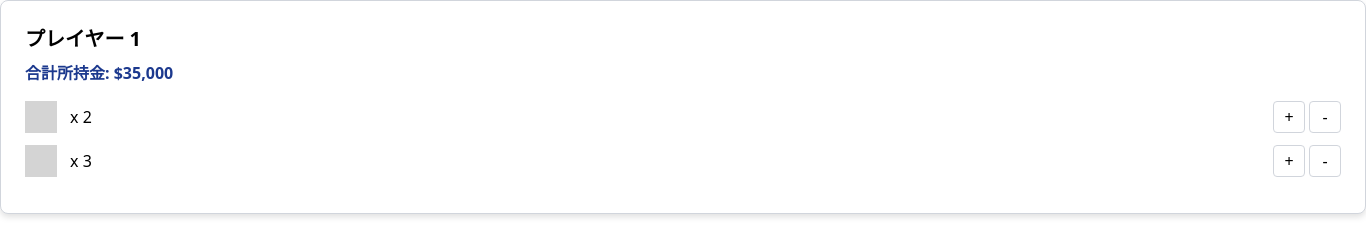
PlayerBoard › プレイヤー名をクリックすると全文が選択され、最初の入力で置き換わる
The width and height of the screenshot is (1366, 245).
Click the text "プレイヤー 1": (83, 38) [25,25,141,52]
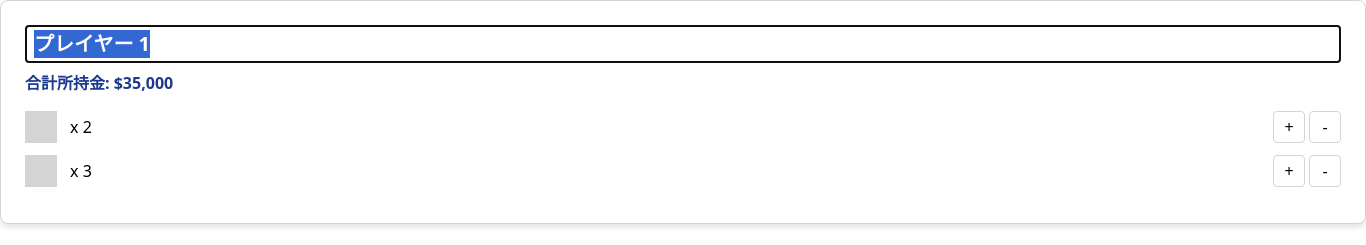
Type keys "X"
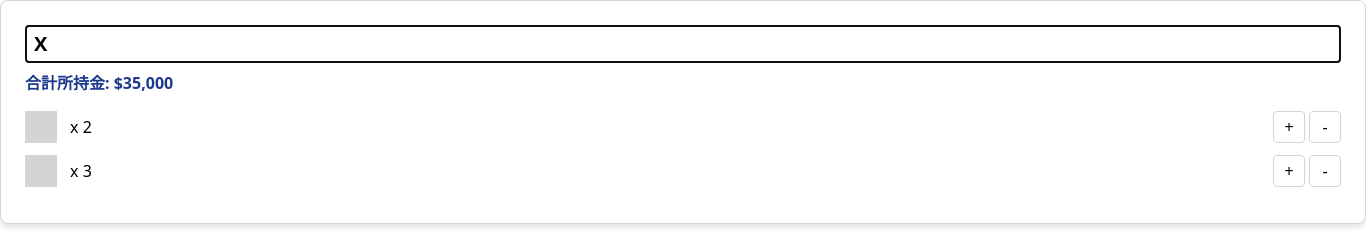
Check: the field holds "X", box [25,25,1341,63]
Type keys "Y"
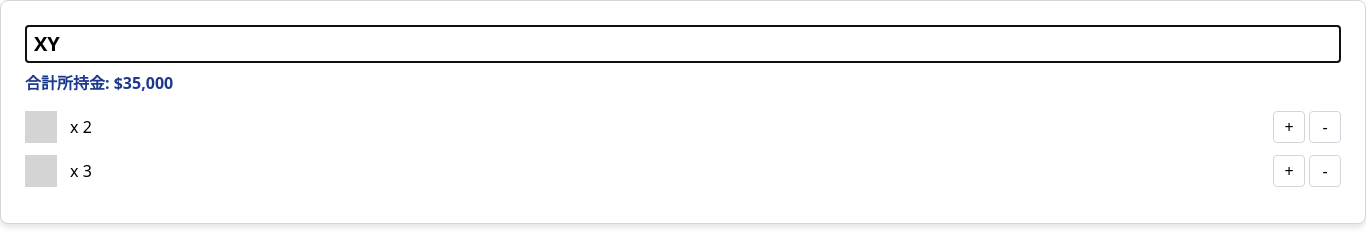
Check: the field holds "XY", box [25,25,1341,63]
